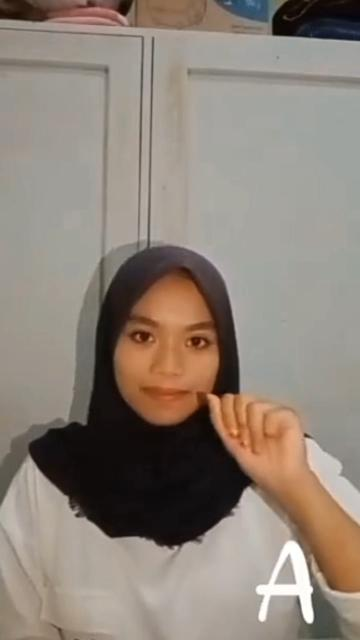A: (204, 384, 320, 506)
